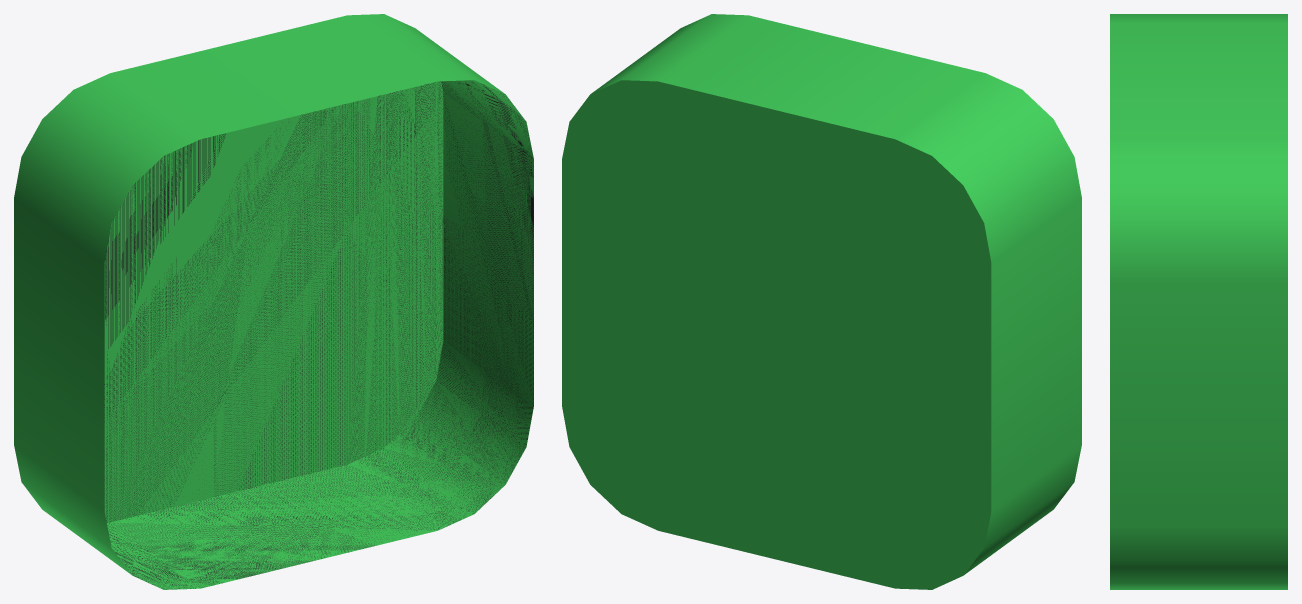
File: original-8.obj
3 views of the same model, side by side, from view 1: azimuth 30°, elevation 25°; view 2: azimuth 150°, elevation 25°; view 3: azimuth 270°, elevation 25° (orthographic).
Parts seen in each view (by area): view 1: #ID5; view 2: #ID5; view 3: #ID5.
Boxes of the visible parts, x1,y1,x2,y2 form: #ID5: (14,14,533,589); #ID5: (562,14,1081,589); #ID5: (1110,14,1287,589).
Bounding box in the file's own units: 0.2424 × 0.2424 × 0.0884.
Materials: 2 (1 with a texture image).
